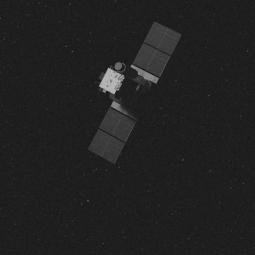soho: (91, 34, 184, 156)
